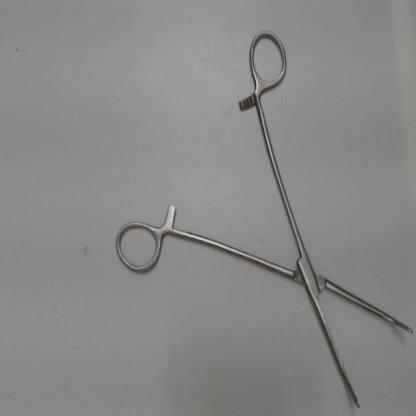Lahey Forceps: (112, 20, 414, 412)
